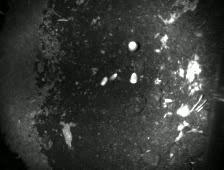corn: (127, 70, 140, 86), (126, 39, 139, 53), (98, 74, 110, 87), (108, 70, 119, 82)
